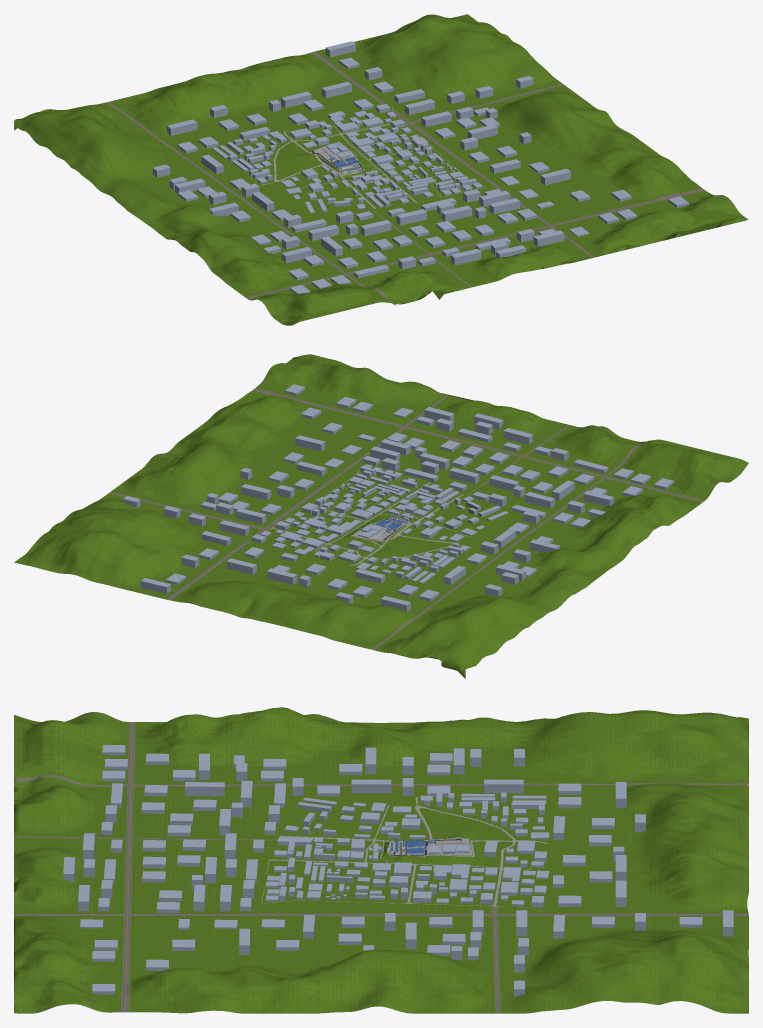
The picture shows the model from 3 angles, top to bottom: view 1: azimuth 30°, elevation 25°; view 2: azimuth 150°, elevation 25°; view 3: azimuth 270°, elevation 25°; orthographic projection. The views are drawn at different scales.
Parts seen in each view (by area): view 1: CJ-CP-001, CJ-FZ-001, CJ-FZ-002, CJ-CP-002; view 2: CJ-CP-001, CJ-FZ-001, CJ-FZ-002, CJ-CP-002; view 3: CJ-CP-001, CJ-FZ-001, CJ-CP-002, CJ-FZ-002, CJ-DJ.
Boxes of the visible parts, x1,y1,x2,y2 form: CJ-CP-001: [14, 14, 748, 325]; CJ-FZ-001: [152, 41, 688, 293]; CJ-FZ-002: [212, 104, 482, 212]; CJ-CP-002: [211, 105, 486, 215]; CJ-CP-001: [14, 354, 748, 678]; CJ-FZ-001: [123, 384, 674, 611]; CJ-FZ-002: [251, 464, 508, 583]; CJ-CP-002: [244, 464, 514, 584]; CJ-CP-001: [14, 707, 748, 1013]; CJ-FZ-001: [63, 745, 733, 996]; CJ-CP-002: [261, 795, 547, 911]; CJ-FZ-002: [265, 792, 549, 907]; CJ-DJ: [387, 838, 472, 856].
Size of the model in its own units: 6250 by 438 by 6653.
Materials: 136 (76 with a texture image).
